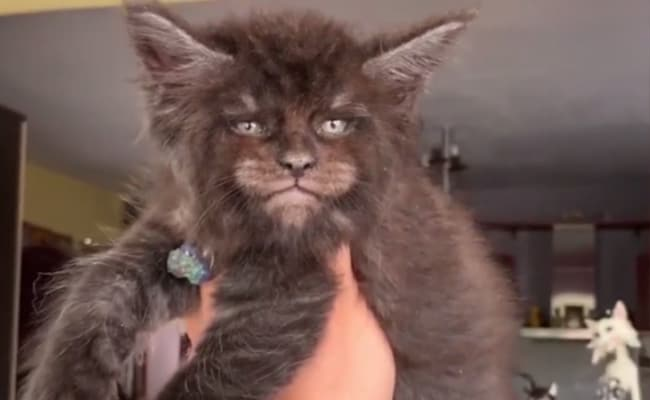cat: (117, 1, 506, 273)
